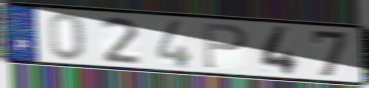0: (47, 11, 89, 63)
2: (98, 15, 144, 64)
4: (257, 24, 302, 77), (154, 18, 194, 70)
7: (309, 28, 351, 79)
P: (201, 21, 250, 71)
